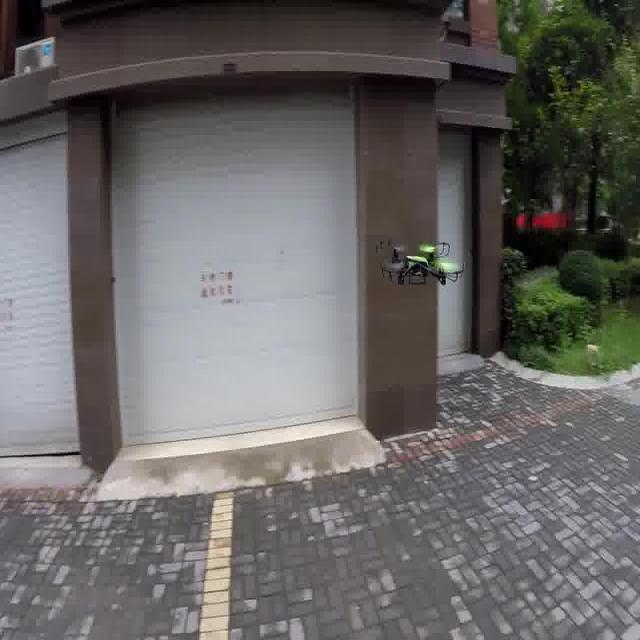drone: (374, 233, 463, 296)
